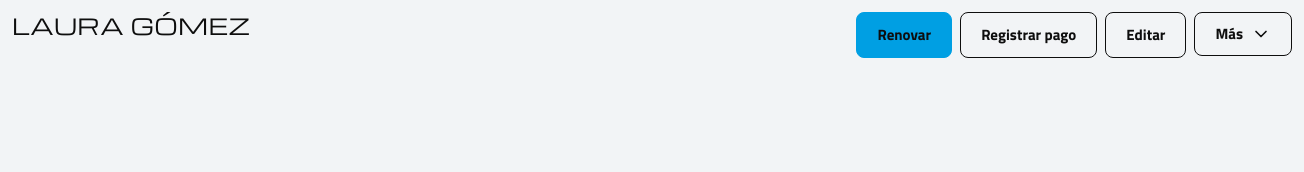
PageHeader › con cuatro acciones deja tres visibles y la cuarta en Más acciones
Check: the button "Registrar pago" is shown, box [960, 12, 1097, 58]
Check: the link "Editar" is shown, box [1105, 12, 1186, 58]
Step 1. Click the button with aria-label "Más acciones" → (1243, 34), box [1194, 12, 1292, 56]
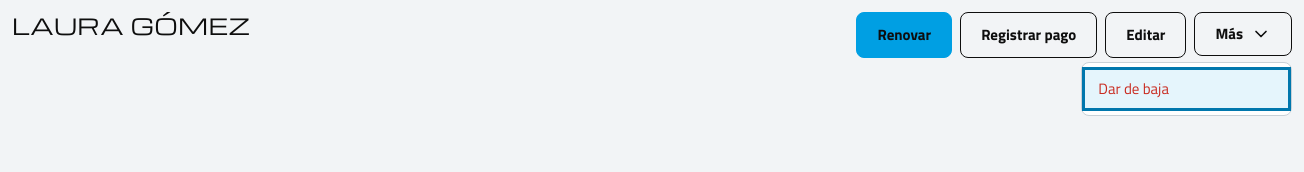
Step 2. Click the menu item "Dar de baja" → (1187, 89), box [1082, 67, 1291, 111]
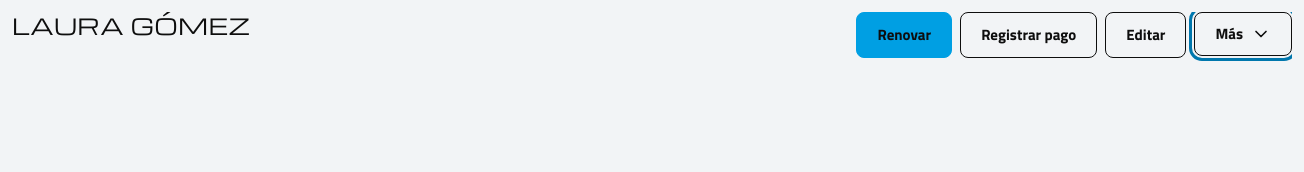
Check: the menu is gone
